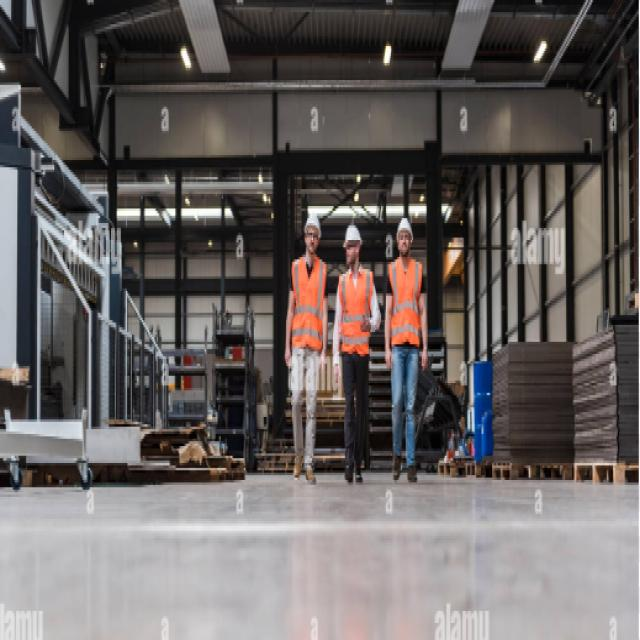boots: (391, 453, 420, 487), (292, 455, 317, 487), (344, 457, 366, 488)
helmet: (340, 222, 362, 269), (302, 212, 322, 260), (396, 215, 414, 261)
vest: (290, 252, 328, 354), (387, 255, 424, 350), (338, 267, 373, 359)
